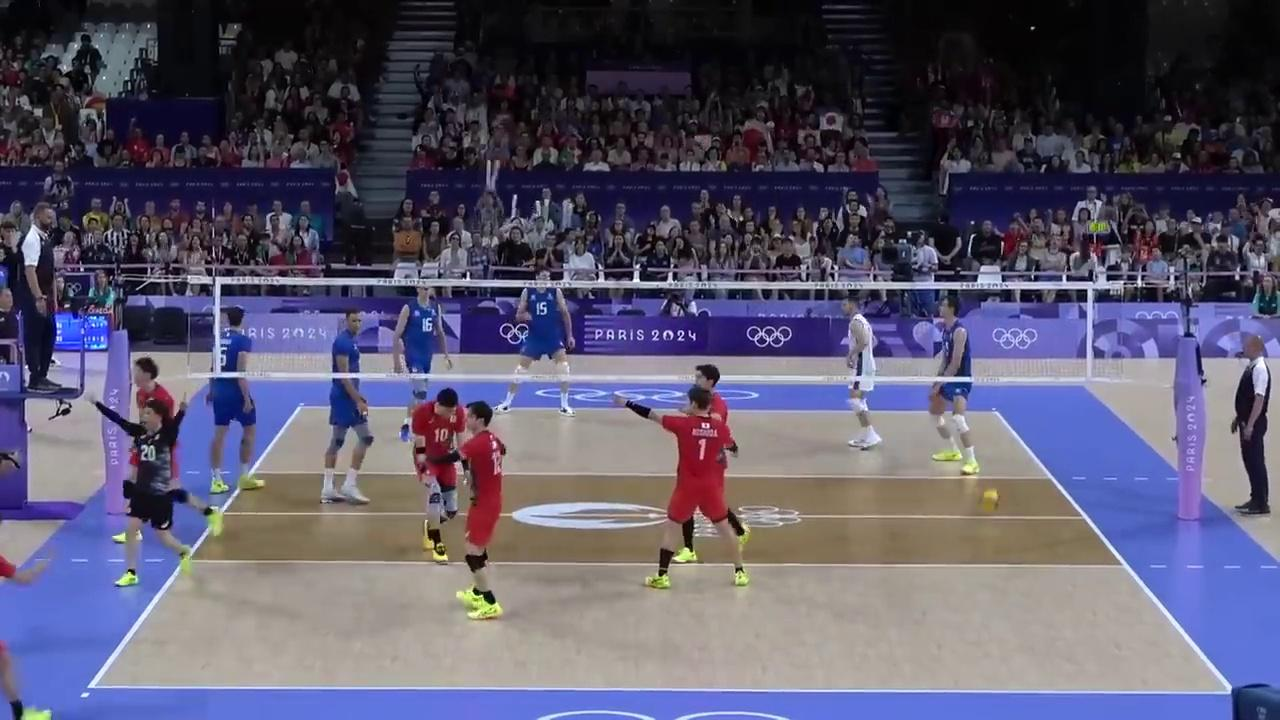ball: (979, 489, 1003, 510)
